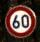Speed Limit -60-: (3, 4, 35, 37)
